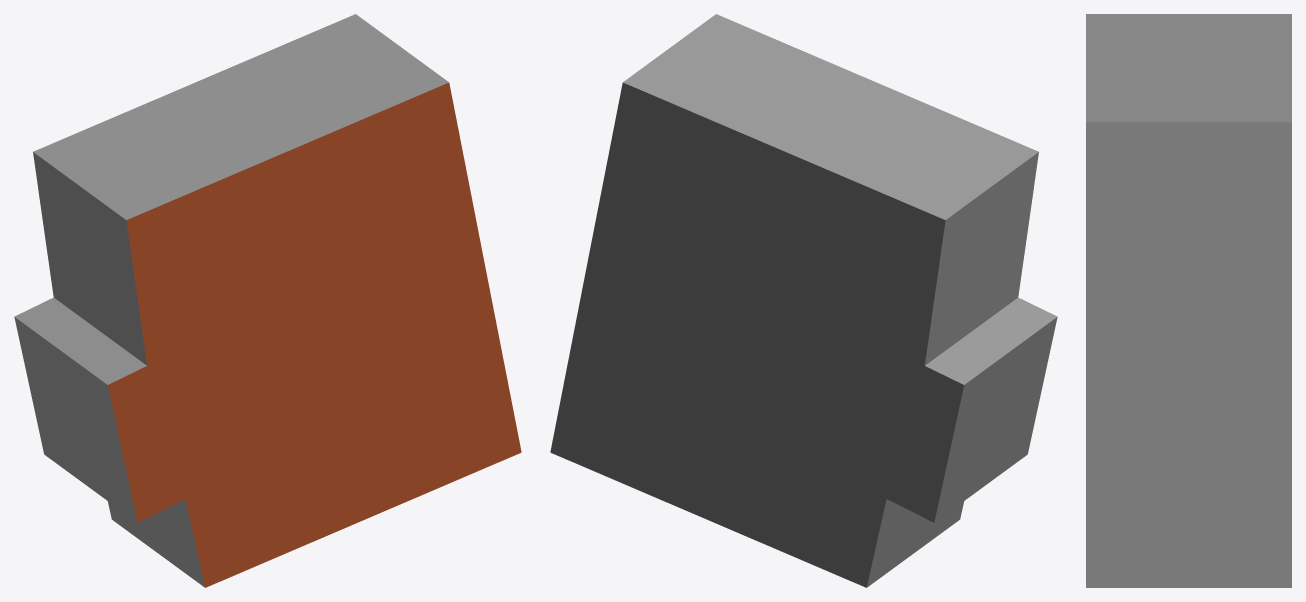
The model's file is construction_3498_assumed_A_Casa_h6m.obj.
The picture shows the model from 3 angles, left to right: view 1: azimuth 30°, elevation 25°; view 2: azimuth 150°, elevation 25°; view 3: azimuth 270°, elevation 25°; orthographic projection. The views are drawn at different scales.
Parts seen in each view (by area): view 1: construction_3498_assumed_A_Casa; view 2: construction_3498_assumed_A_Casa; view 3: construction_3498_assumed_A_Casa.
Part boxes in pixels (x1=…): construction_3498_assumed_A_Casa: x1=14, y1=14, x2=521, y2=587; construction_3498_assumed_A_Casa: x1=550, y1=14, x2=1057, y2=587; construction_3498_assumed_A_Casa: x1=1086, y1=14, x2=1291, y2=587.
Size of the model in its own units: 15.34 by 15.8 by 6.
